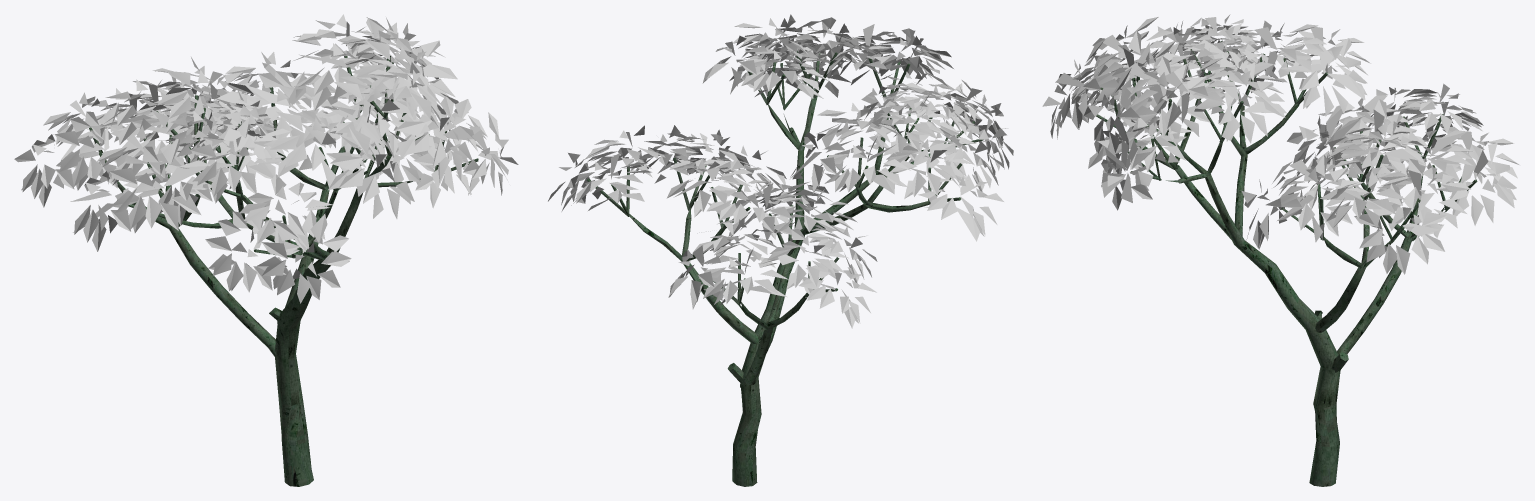
Rendered from tree2.fbx.
3 views of the same model, side by side, from view 1: azimuth 30°, elevation 25°; view 2: azimuth 150°, elevation 25°; view 3: azimuth 270°, elevation 25° (orthographic). The views are drawn at different scales.
Visible parts, largest first — view 1: tree3; view 2: tree3; view 3: tree3.
Boxes of the visible parts, x1,y1,x2,y2 form: tree3: [14, 14, 518, 486]; tree3: [548, 14, 1013, 486]; tree3: [1042, 14, 1519, 486].
Size of the model in its own units: 1248 by 1349 by 1350.
